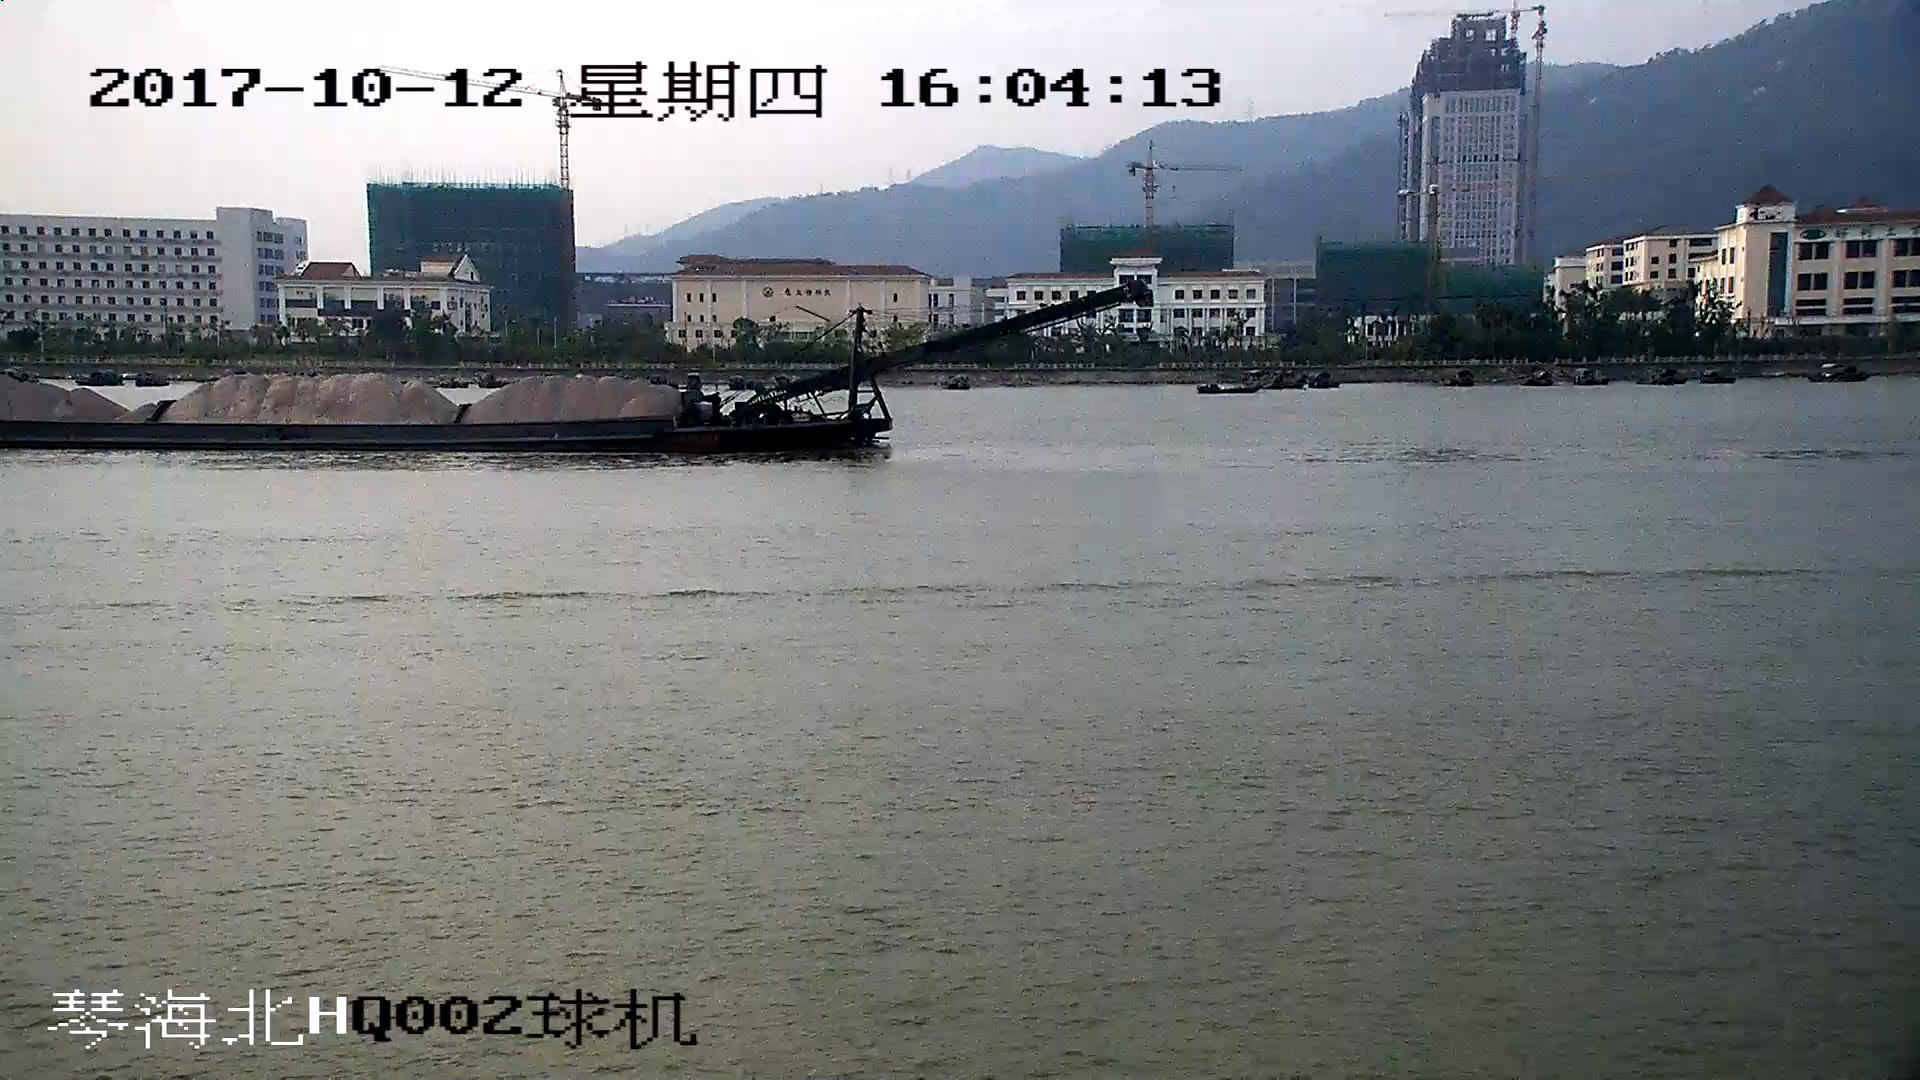ore carrier: (1, 283, 1139, 450)
